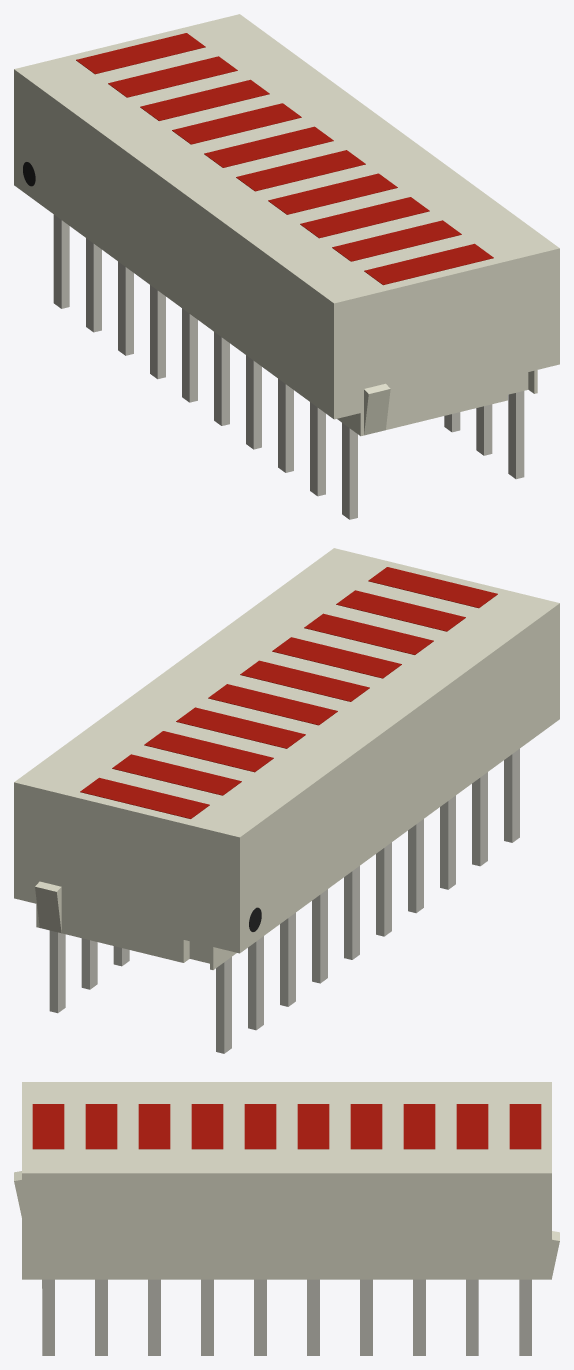
The model's file is kc-hdsp-48xx.glb.
3 views of the same model, one above another, from view 1: azimuth 30°, elevation 25°; view 2: azimuth 150°, elevation 25°; view 3: azimuth 270°, elevation 25° (orthographic). The views are drawn at different scales.
Parts seen in each view (by area): view 1: 0.75_0.75_0.6666666666666666_0, 0.4166666666666667_0_0_0, 0.6666666666666666_0.6666666666666666_0.5833333333333334_0.8; view 2: 0.75_0.75_0.6666666666666666_0, 0.4166666666666667_0_0_0, 0.6666666666666666_0.6666666666666666_0.5833333333333334_0.8; view 3: 0.75_0.75_0.6666666666666666_0, 0.4166666666666667_0_0_0, 0.6666666666666666_0.6666666666666666_0.5833333333333334_0.8.
Part boxes in pixels (box(x1,y1,x2,y2)): 0.75_0.75_0.6666666666666666_0: box(14, 14, 559, 436); 0.4166666666666667_0_0_0: box(76, 33, 493, 285); 0.6666666666666666_0.6666666666666666_0.5833333333333334_0.8: box(53, 214, 524, 519); 0.75_0.75_0.6666666666666666_0: box(14, 548, 559, 969); 0.4166666666666667_0_0_0: box(80, 567, 497, 818); 0.6666666666666666_0.6666666666666666_0.5833333333333334_0.8: box(49, 749, 519, 1053); 0.75_0.75_0.6666666666666666_0: box(14, 1082, 559, 1279); 0.4166666666666667_0_0_0: box(32, 1104, 541, 1149); 0.6666666666666666_0.6666666666666666_0.5833333333333334_0.8: box(42, 1279, 531, 1355).
Size of the model in its own units: 1.04 by 1.02 by 2.62.
